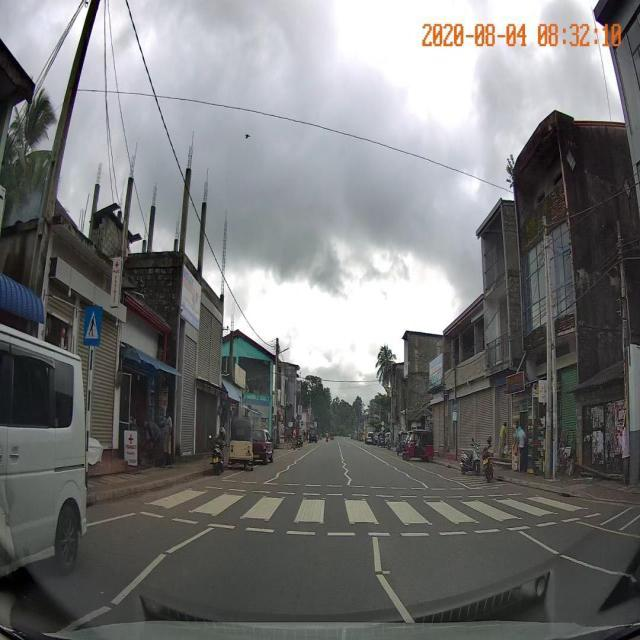Crosswalk: (111, 480, 616, 541)
